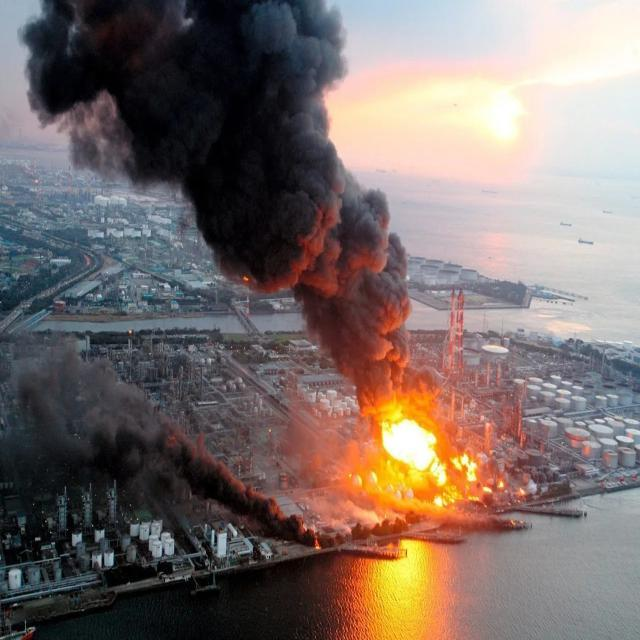Fire: (378, 406, 446, 496), (440, 452, 478, 506), (314, 539, 322, 548)
Smoke: (16, 0, 437, 421), (17, 334, 316, 546)
